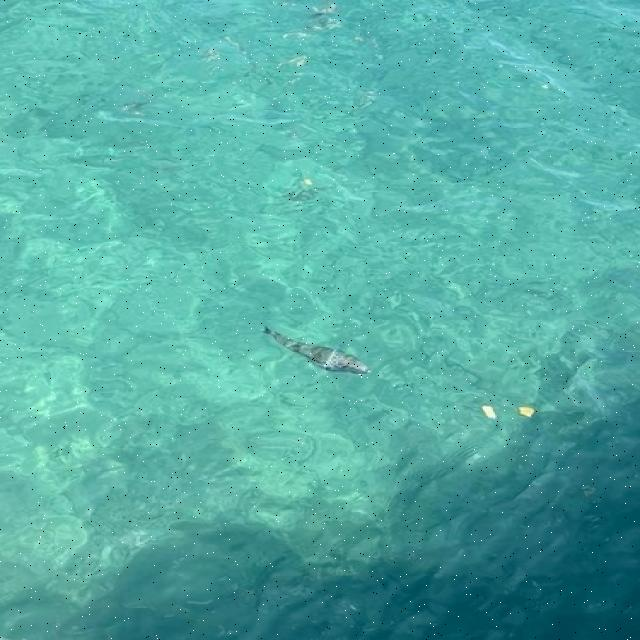Balik: (263, 327, 370, 373)
